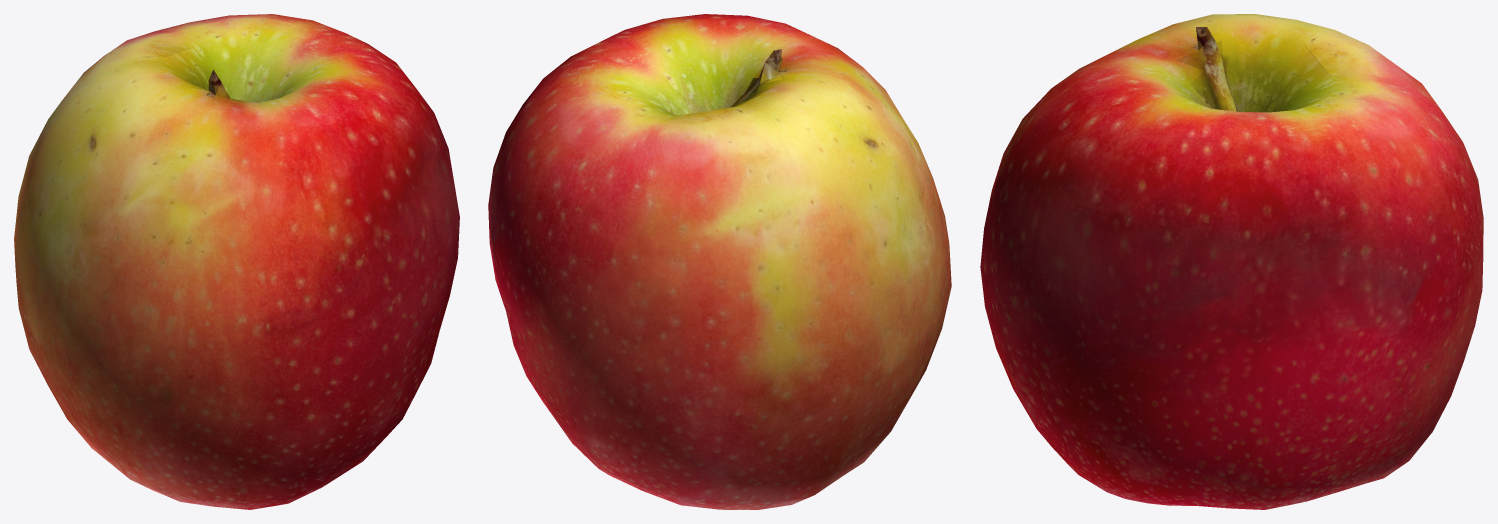
File: AppleLOWPOLY.obj
The picture shows the model from 3 angles, left to right: view 1: azimuth 30°, elevation 25°; view 2: azimuth 150°, elevation 25°; view 3: azimuth 270°, elevation 25°; orthographic projection. The views are drawn at different scales.
Parts seen in each view (by area): view 1: Applenew; view 2: Applenew; view 3: Applenew.
Boxes of the visible parts, x1,y1,x2,y2 form: Applenew: (14,14,459,509); Applenew: (488,14,951,509); Applenew: (980,14,1483,509).
Size of the model in its own units: 0.5001 by 0.5263 by 0.5336.
